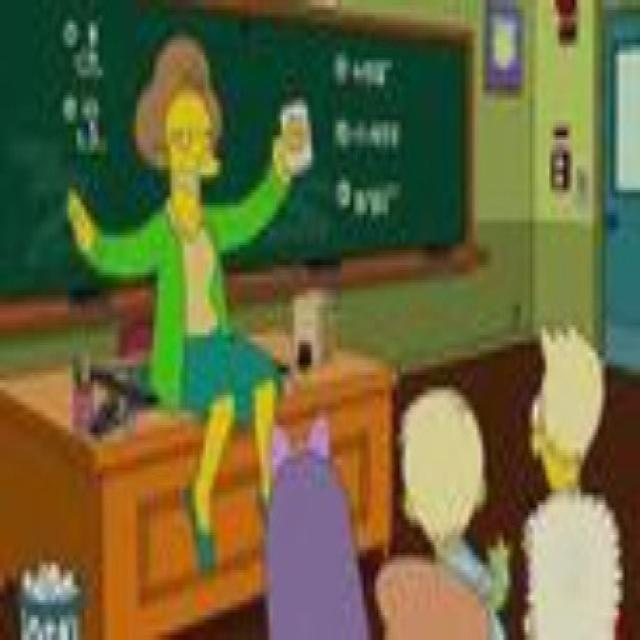Edna Krappel: (132, 32, 221, 228)
